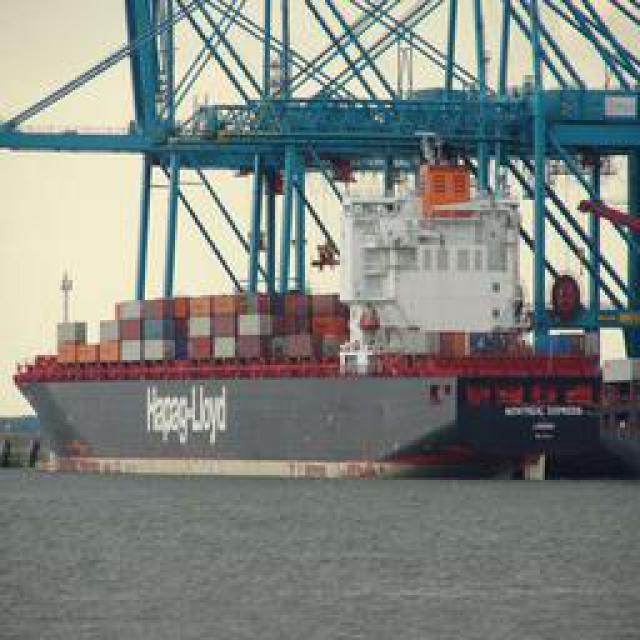Ship: (9, 71, 624, 481)
